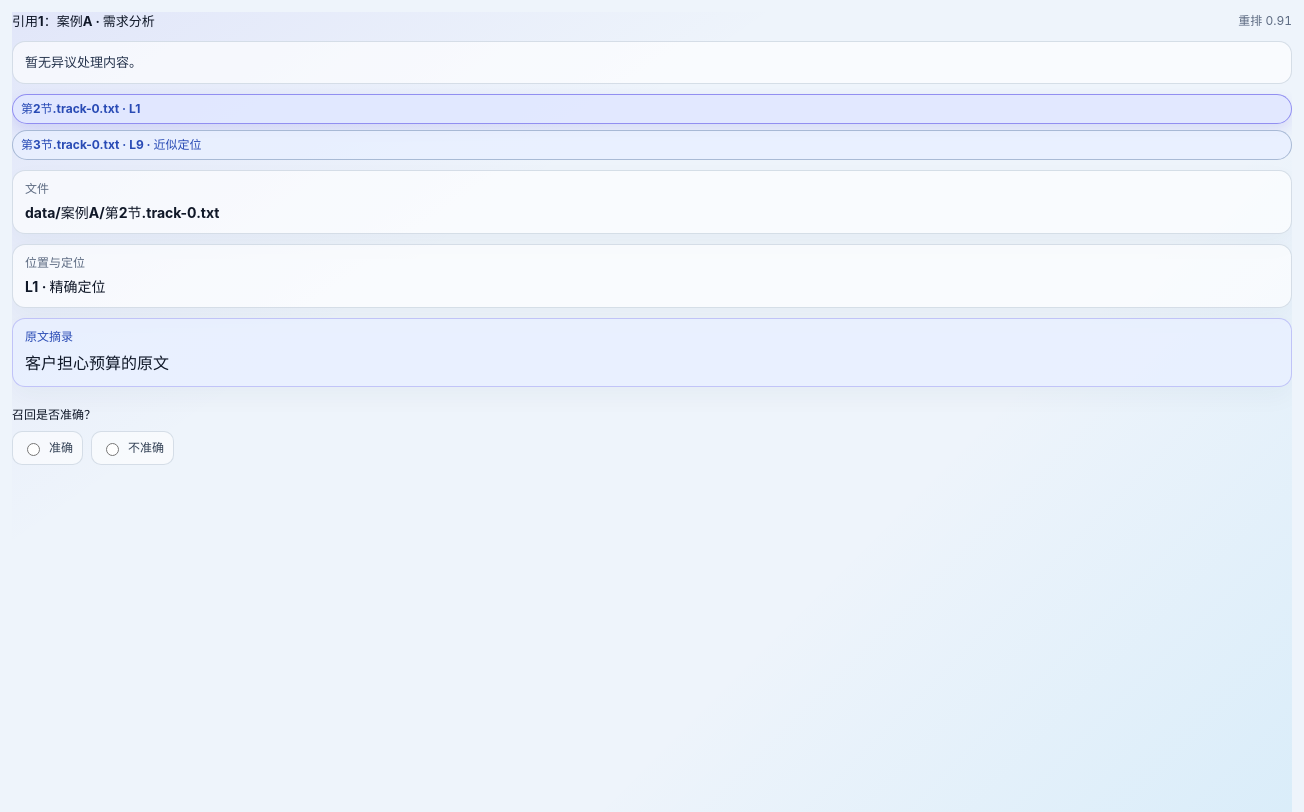
Scenario: 参考正确时立即提交并在保存后锁定所有单选按钮
The width and height of the screenshot is (1304, 812).
Click the radio button with aria-label "引用1召回准确" at [34, 449], box [27,443,40,456]
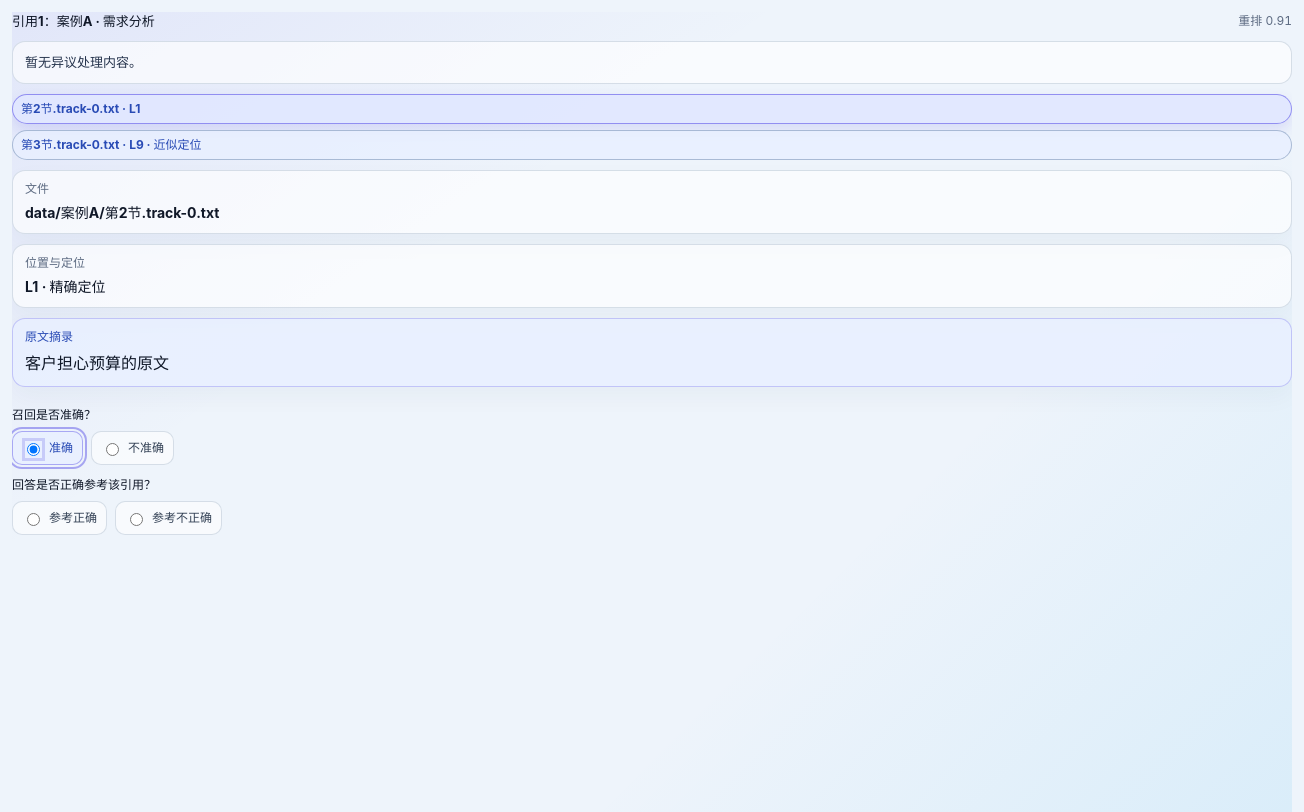
Click the radio button with aria-label "引用1参考正确" at [34, 519], box [27,513,40,526]
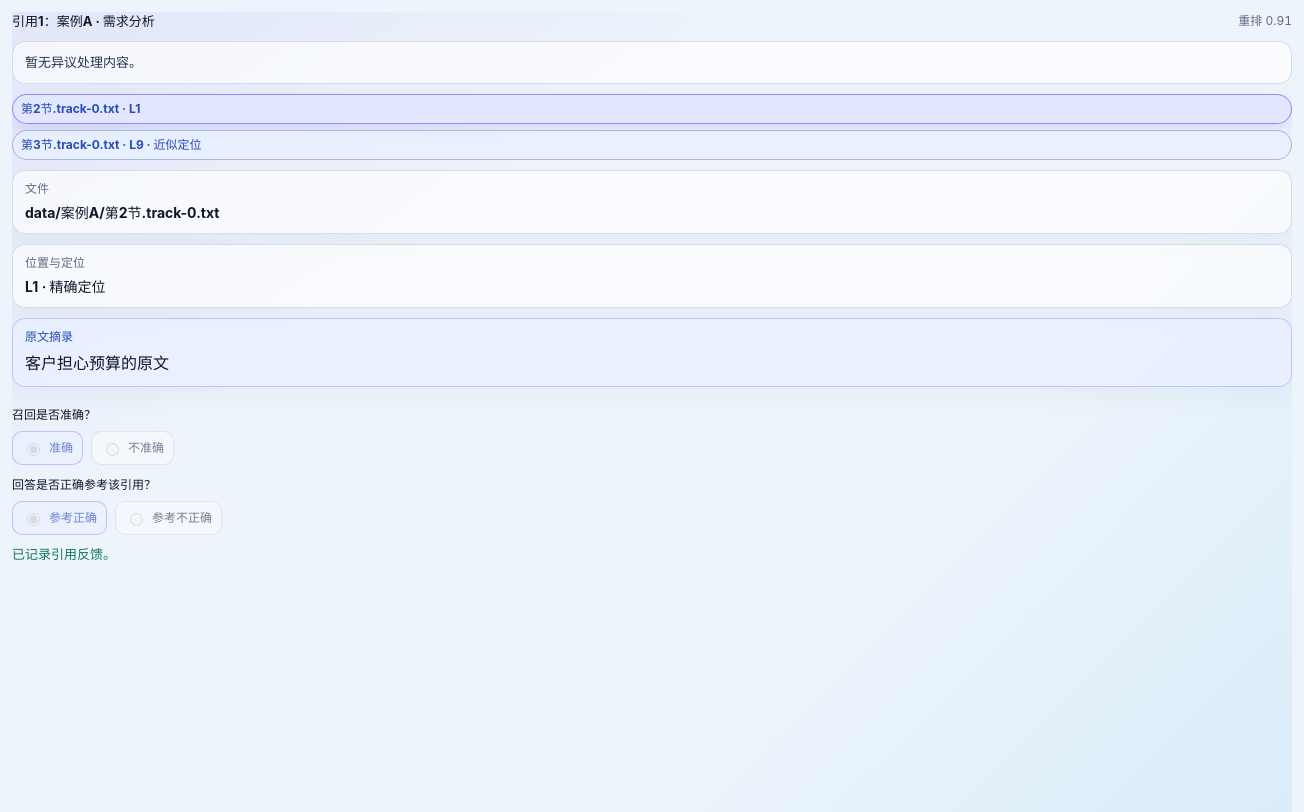
Expected: the text "已记录引用反馈。" is shown, [12,546,116,562]
Expected: the radio button labelled "准确" is disabled, [27,443,40,456]
Expected: the radio button labelled "不准确" is disabled, [106,443,119,456]
